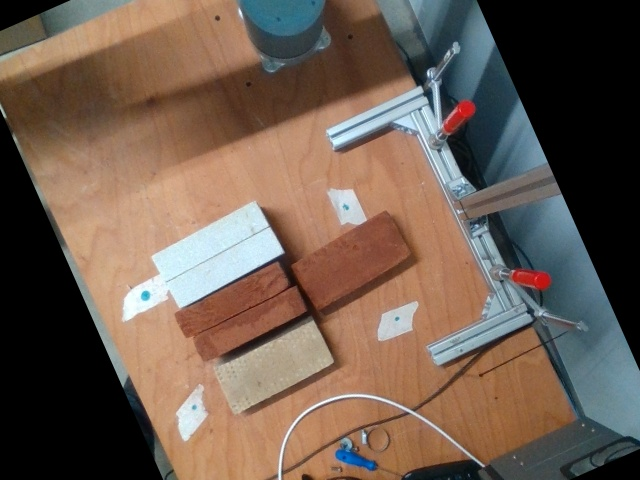brick: (290, 213, 409, 311), (213, 321, 333, 415)
brick-side: (165, 226, 282, 310), (152, 200, 269, 284), (174, 262, 289, 339), (192, 286, 308, 362)
